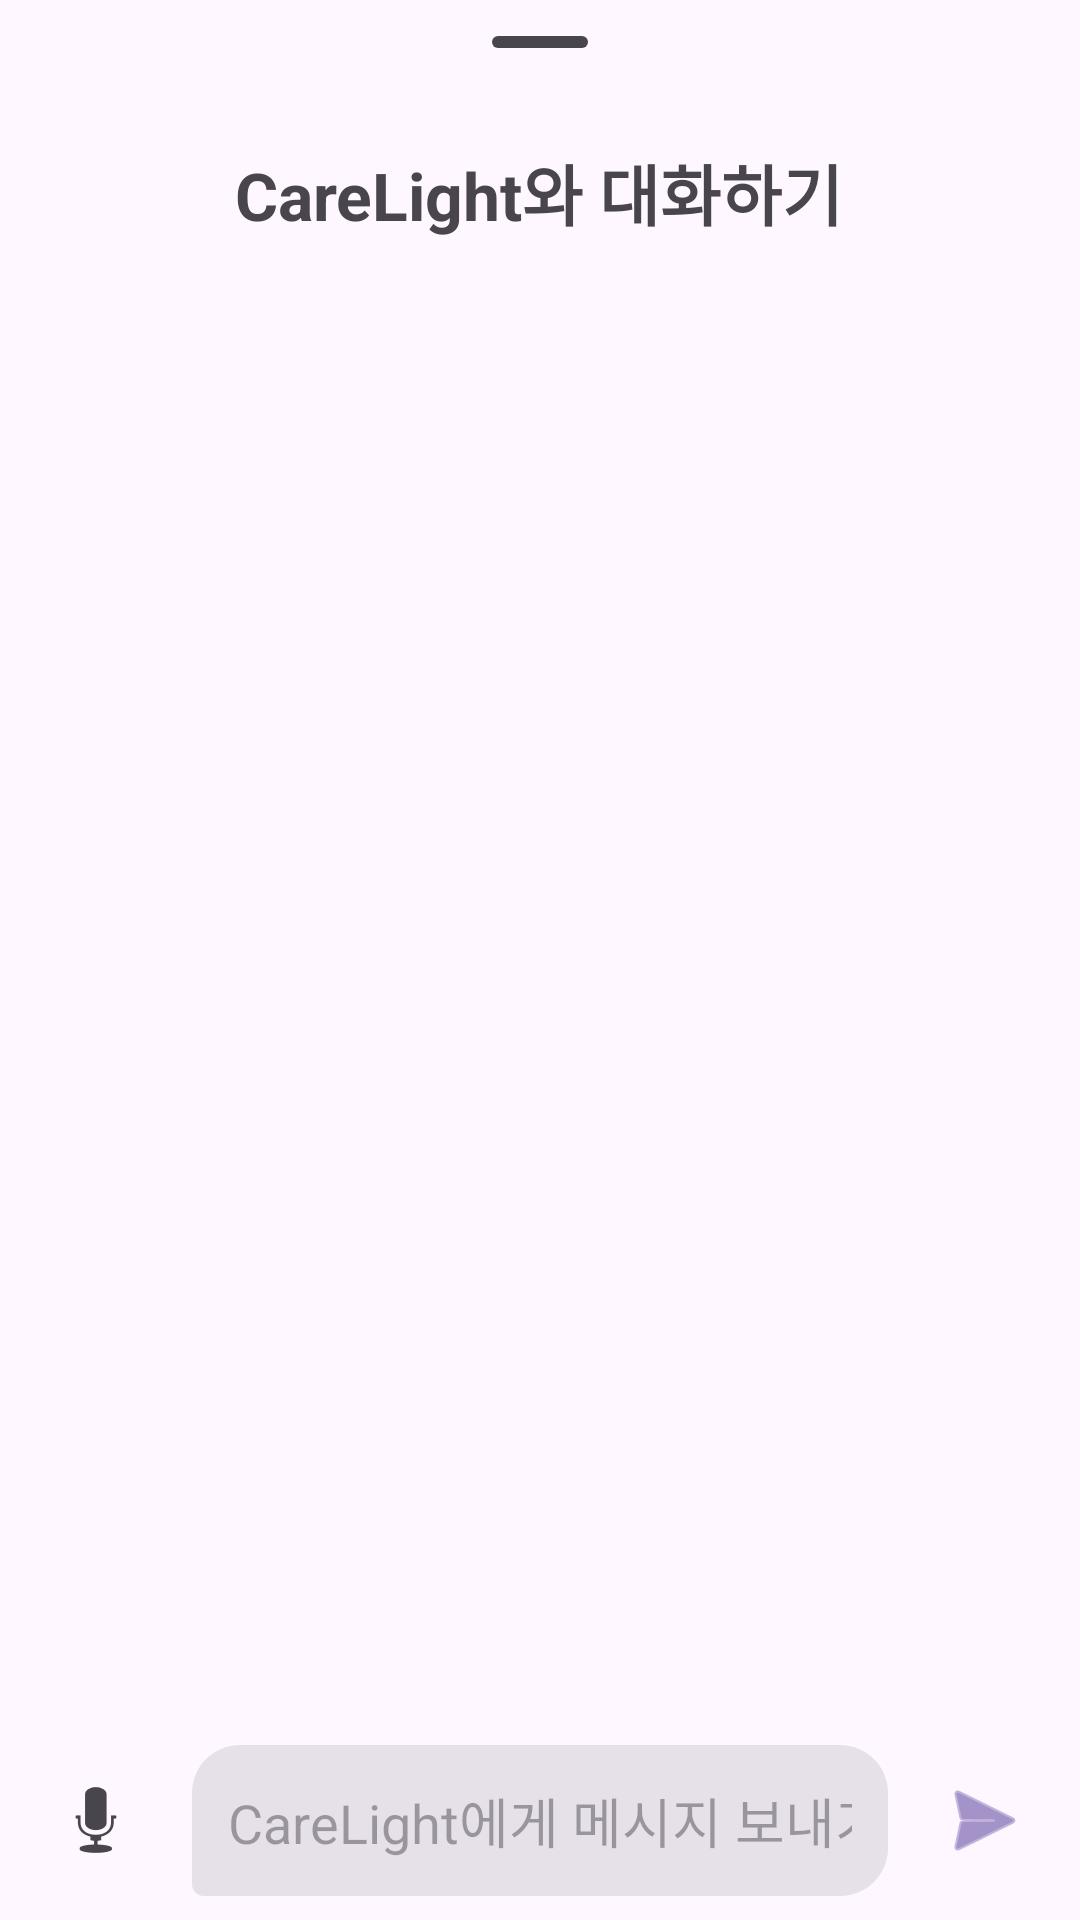

Named icons in this screenshot (1080px×1920px) and their bounding boxes, (x1, y1, x2, y2):
음성으로 입력: (75, 1787, 117, 1853)
전송: (954, 1790, 1015, 1851)
